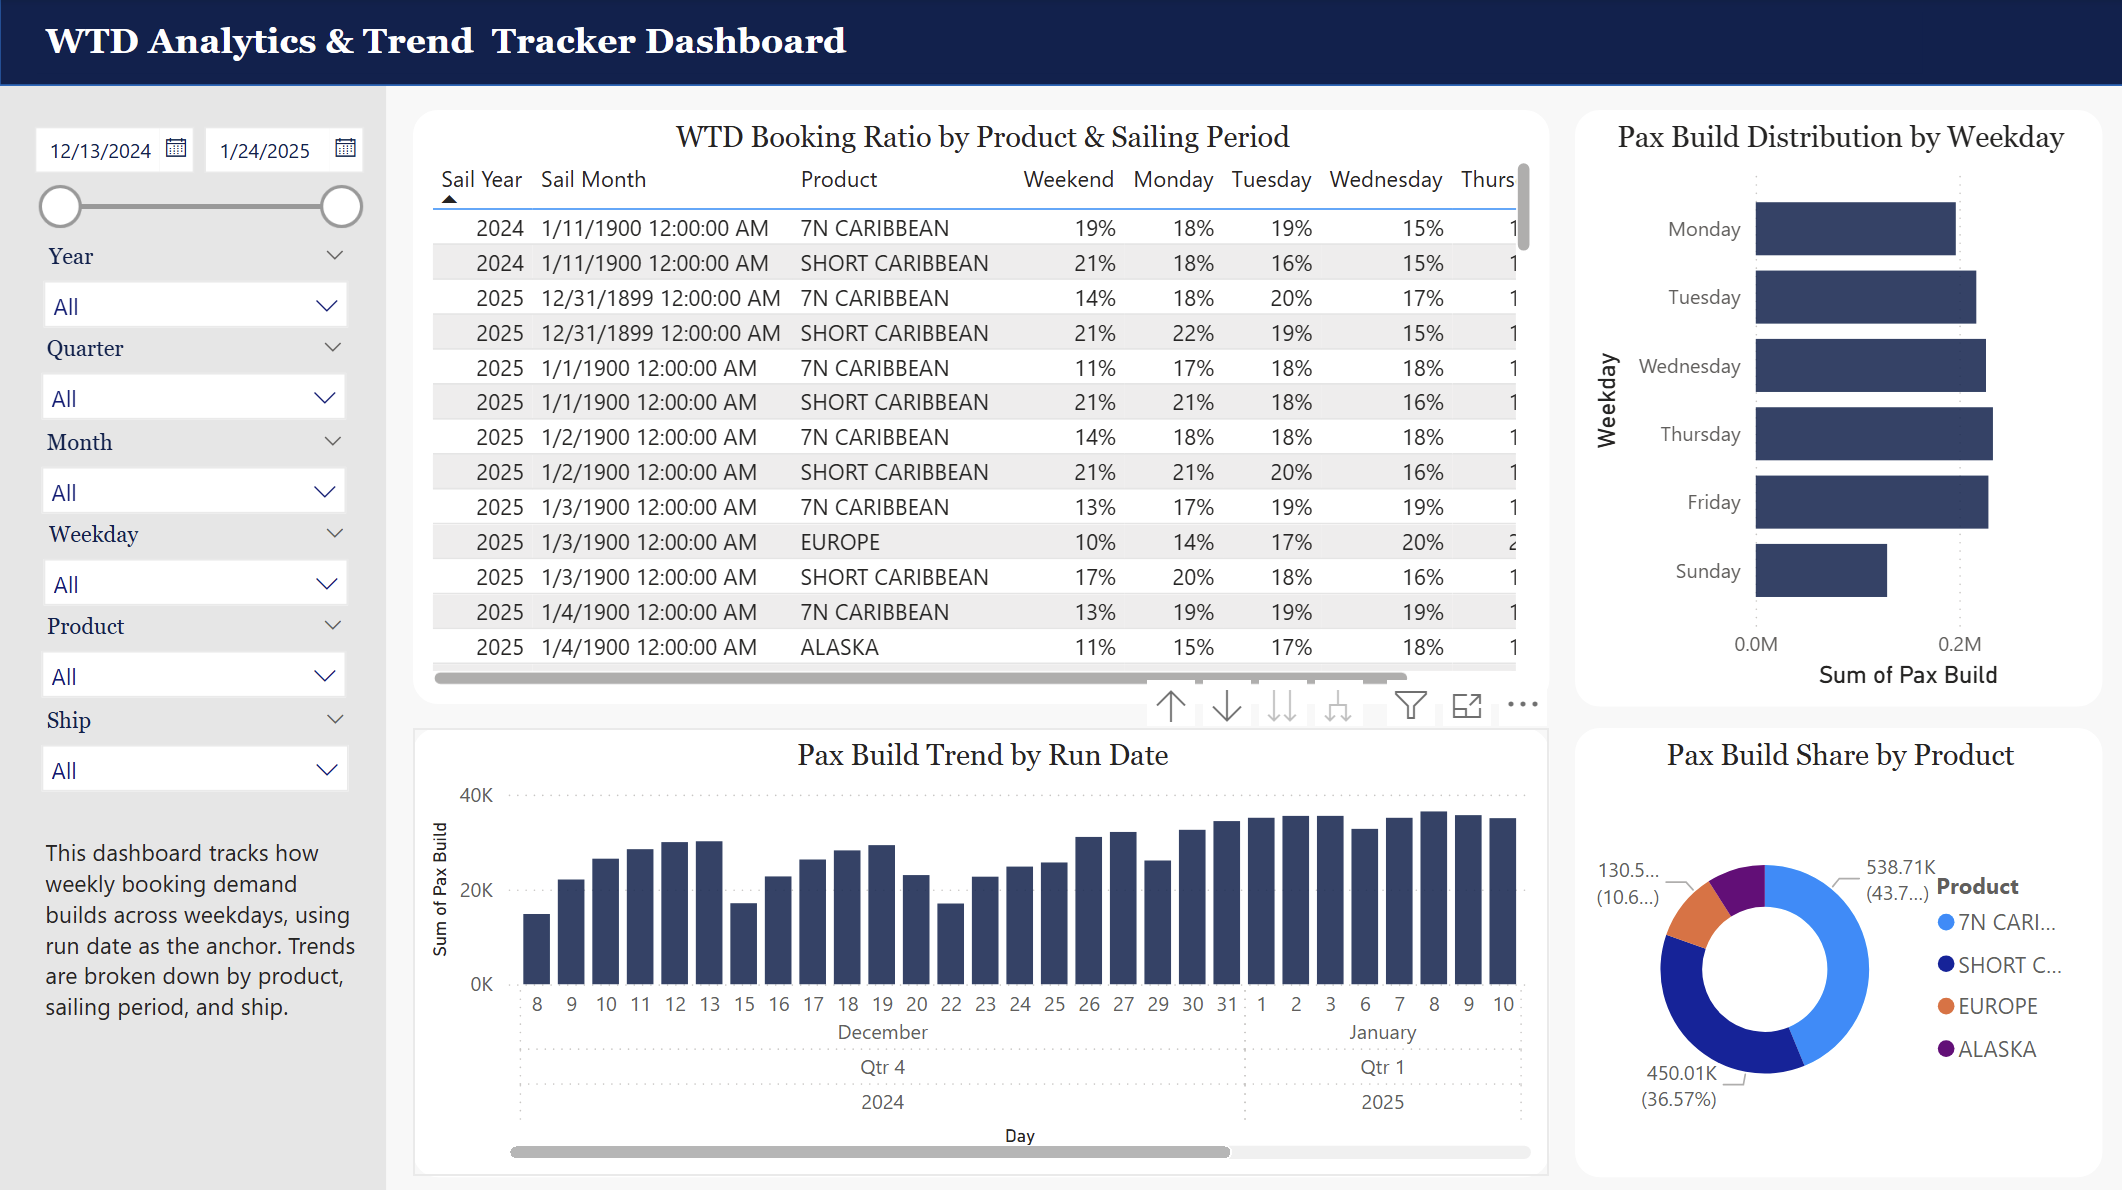

The page's visual inventory and layout, read from the dashboard file:
{"tool":"powerbi","page":{"name":"WTD Analytics & Trend  Tracker Dashboard","canvas":[1280,720],"ordinal":0},"visuals":[{"type":"shape","box":[0,52.9,232.9,667.1],"z":0},{"type":"slicer","fields":{"Values":["cleaned_pax_build_data.ship"]},"box":[15.7,421.4,204.3,77.1],"z":4000},{"type":"slicer","fields":{"Values":["cleaned_pax_build_data.meta_product_code"]},"box":[15.7,365.7,202.9,74.3],"z":5000},{"type":"slicer","fields":{"Values":["Weekday Sort.weekday_name"]},"box":[17.1,310,202.9,61.4],"z":6000},{"type":"shape","box":[0,0,1280,52.9],"z":9000},{"type":"textbox","box":[22.9,8.6,1132.9,37.1],"z":10000},{"type":"slicer","fields":{"Values":["cleaned_pax_build_data.calendar_week"]},"box":[8.6,67.1,218.6,117.1],"z":11000},{"type":"slicer","fields":{"Values":["cleaned_pax_build_data.run_date.Variation.Date Hierarchy.Year"]},"box":[17.1,142.9,202.9,61.4],"z":12000},{"type":"slicer","fields":{"Values":["cleaned_pax_build_data.run_date.Variation.Date Hierarchy.Quarter"]},"box":[15.7,198.6,202.9,61.4],"z":13000},{"type":"slicer","fields":{"Values":["cleaned_pax_build_data.run_date.Variation.Date Hierarchy.Month"]},"box":[15.7,254.3,202.9,61.4],"z":14000},{"type":"textbox","box":[22.9,498.6,197.1,167.1],"z":15000},{"type":"tableEx","title":"WTD Booking Ratio by Product & Sailing Period","fields":{"Values":["cleaned_pax_build_data.sail_year","cleaned_pax_build_data.sail_month","cleaned_pax_build_data.meta_product_code","DAX.Weekend","DAX.Monday","DAX.Tuesday","DAX.Wednesday","DAX.Thursday","DAX.Friday"]},"box":[248.6,67.1,682.9,357.1],"z":16000},{"type":"clusteredBarChart","title":"Pax Build Distribution by Weekday","fields":{"Y":["Sum(cleaned_pax_build_data.pax_build)"],"Category":["Weekday Sort.weekday_name"]},"box":[947.1,67.1,317.1,358.6],"z":16500},{"type":"clusteredColumnChart","title":"Pax Build Trend by Run Date","fields":{"Category":["cleaned_pax_build_data.run_date.Variation.Date Hierarchy.Year","cleaned_pax_build_data.run_date.Variation.Date Hierarchy.Quarter","cleaned_pax_build_data.run_date.Variation.Date Hierarchy.Month","cleaned_pax_build_data.run_date.Variation.Date Hierarchy.Day"],"Y":["Sum(cleaned_pax_build_data.pax_build)"]},"box":[248.6,438.6,682.9,270],"z":17000},{"type":"donutChart","title":"Pax Build Share by Product","fields":{"Category":["cleaned_pax_build_data.meta_product_code"],"Y":["Sum(cleaned_pax_build_data.pax_build)"]},"box":[947.1,438.6,317.1,270],"z":17500}]}

Visuals, with their boxes in screenshot pixels (x1, y1, x2, y2), scaled from the page's 1280x720 canvas onto the 2122x1190 screenshot:
shape: [left=0, top=87, right=386, bottom=1189]
slicer - cleaned_pax_build_data.ship: [left=26, top=696, right=365, bottom=824]
slicer - cleaned_pax_build_data.meta_product_code: [left=26, top=604, right=362, bottom=727]
slicer - Weekday Sort.weekday_name: [left=28, top=512, right=365, bottom=614]
shape: [left=0, top=0, right=2121, bottom=87]
textbox: [left=38, top=14, right=1916, bottom=76]
slicer - cleaned_pax_build_data.calendar_week: [left=14, top=111, right=377, bottom=304]
slicer - cleaned_pax_build_data.run_date.Variation.Date Hierarchy.Year: [left=28, top=236, right=365, bottom=338]
slicer - cleaned_pax_build_data.run_date.Variation.Date Hierarchy.Quarter: [left=26, top=328, right=362, bottom=430]
slicer - cleaned_pax_build_data.run_date.Variation.Date Hierarchy.Month: [left=26, top=420, right=362, bottom=522]
textbox: [left=38, top=824, right=365, bottom=1100]
"WTD Booking Ratio by Product & Sailing Period" tableEx: [left=412, top=111, right=1544, bottom=701]
"Pax Build Distribution by Weekday" clusteredBarChart: [left=1570, top=111, right=2096, bottom=704]
"Pax Build Trend by Run Date" clusteredColumnChart: [left=412, top=725, right=1544, bottom=1171]
"Pax Build Share by Product" donutChart: [left=1570, top=725, right=2096, bottom=1171]
